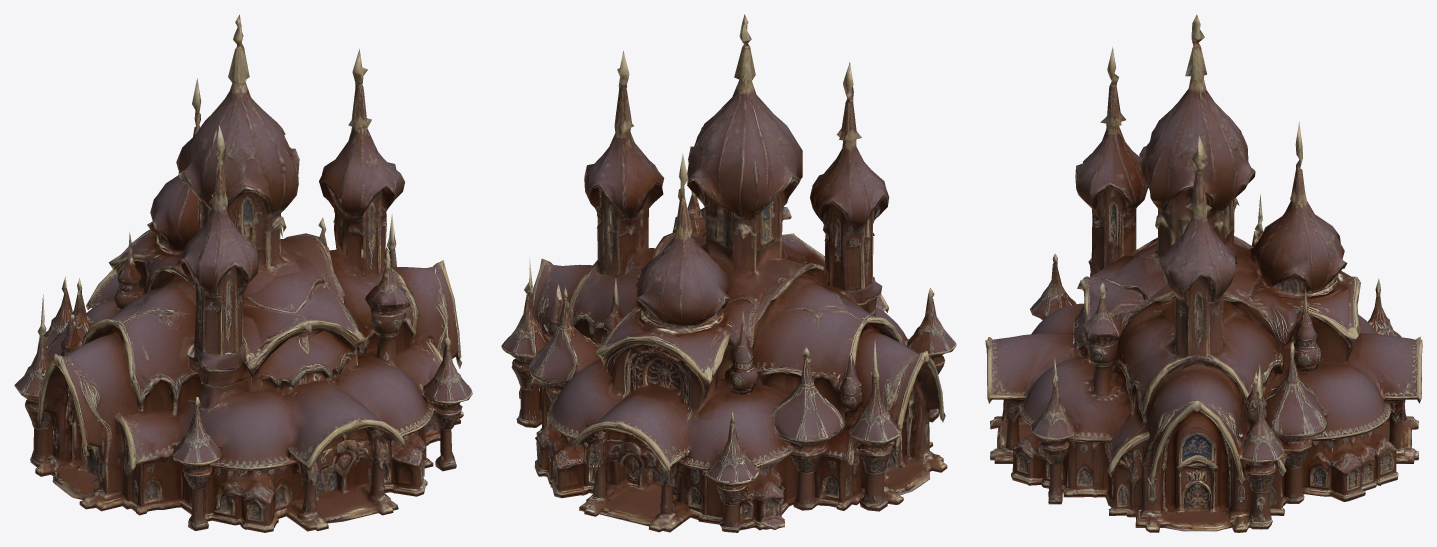
The model's file is palace_big_r.glb.
3 views of the same model, side by side, from view 1: azimuth 30°, elevation 25°; view 2: azimuth 150°, elevation 25°; view 3: azimuth 270°, elevation 25° (orthographic). The views are drawn at different scales.
Parts seen in each view (by area): view 1: tripo_node_74927a04-a126-4d81-88f8-6901431fb4bb; view 2: tripo_node_74927a04-a126-4d81-88f8-6901431fb4bb; view 3: tripo_node_74927a04-a126-4d81-88f8-6901431fb4bb.
Boxes of the visible parts, x1,y1,x2,y2 form: tripo_node_74927a04-a126-4d81-88f8-6901431fb4bb: (14, 14, 472, 532); tripo_node_74927a04-a126-4d81-88f8-6901431fb4bb: (501, 14, 956, 532); tripo_node_74927a04-a126-4d81-88f8-6901431fb4bb: (985, 14, 1422, 532).
Bounding box in the file's own units: 0.9293 × 0.9707 × 0.9086.
Materials: 1 (1 with a texture image).
